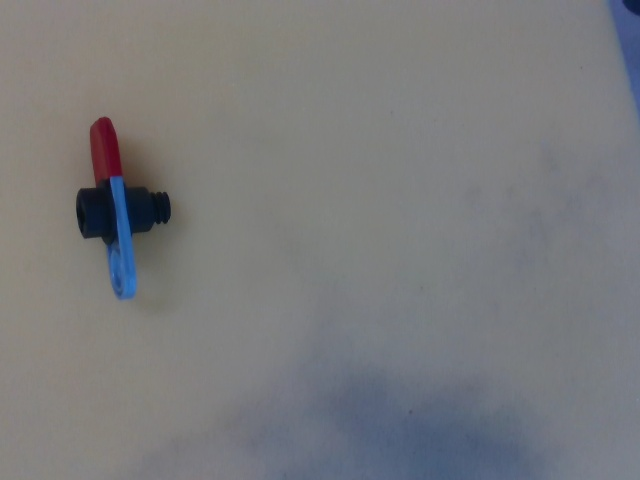part_1_good: (72, 114, 175, 303)
